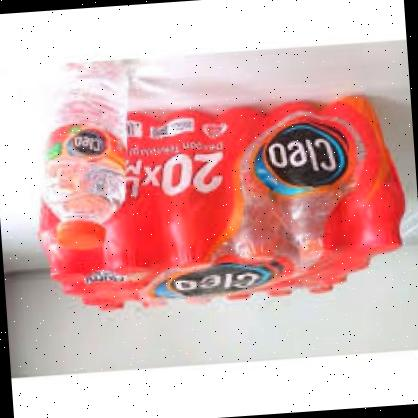bottle: (28, 48, 152, 264)
cap: (51, 210, 106, 253)
label: (42, 120, 136, 179)
